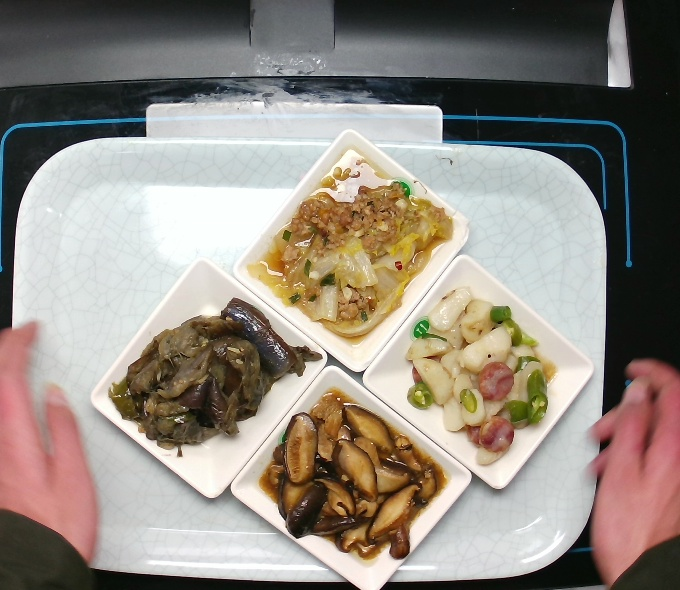wcq-MaTiGuo: (396, 283, 560, 474)
wcq-MoGu: (258, 384, 446, 568)
wcq-QieZi: (99, 292, 326, 450)
wcq-RouMoBaiCai: (246, 145, 456, 341)
